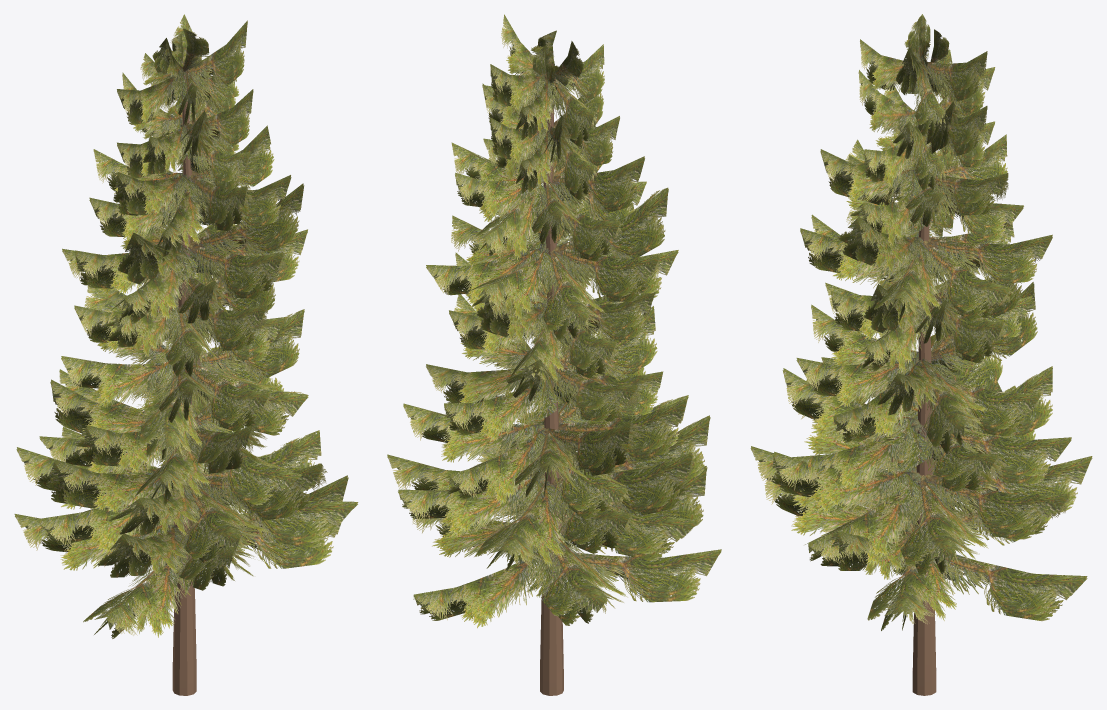
Rendered from Pine Tree v3 Test.fbx.
3 views of the same model, side by side, from view 1: azimuth 30°, elevation 25°; view 2: azimuth 150°, elevation 25°; view 3: azimuth 270°, elevation 25° (orthographic). The views are drawn at different scales.
Visible parts, largest first — view 1: pPlane131, polySurface186, polySurface194, pPlane126, polySurface205, polySurface131, polySurface273, polySurface288, polySurface279, polySurface195, polySurface228, polySurface267 (+26 smaller); view 2: pPlane131, polySurface186, polySurface194, pPlane126, polySurface205, polySurface187, polySurface131, polySurface195, polySurface303, polySurface312, polySurface294, polySurface276 (+21 smaller); view 3: pPlane131, polySurface186, polySurface194, pPlane126, polySurface205, polySurface131, polySurface187, polySurface285, polySurface264, polySurface207, polySurface198, polySurface202 (+27 smaller).
Boxes of the visible parts, <box> form: pPlane131: <box>14,395,358,638</box>; polySurface186: <box>39,369,302,511</box>; polySurface194: <box>62,183,307,323</box>; pPlane126: <box>74,269,285,376</box>; polySurface205: <box>117,72,253,178</box>; polySurface131: <box>172,75,196,695</box>; polySurface273: <box>61,356,174,403</box>; polySurface288: <box>193,309,304,377</box>; polySurface279: <box>139,372,202,451</box>; polySurface195: <box>89,197,179,240</box>; polySurface228: <box>117,74,187,124</box>; polySurface267: <box>193,363,308,431</box>; pPlane131: <box>387,407,721,628</box>; polySurface186: <box>403,363,688,519</box>; polySurface194: <box>426,155,678,340</box>; pPlane126: <box>449,239,655,389</box>; polySurface205: <box>482,83,619,200</box>; polySurface187: <box>444,386,559,441</box>; polySurface131: <box>540,98,563,695</box>; polySurface195: <box>556,208,623,261</box>; polySurface303: <box>475,181,547,254</box>; polySurface312: <box>552,156,644,208</box>; polySurface294: <box>455,172,546,216</box>; polySurface276: <box>560,306,657,378</box>; pPlane131: <box>750,379,1092,630</box>; polySurface186: <box>782,329,1071,491</box>; polySurface194: <box>800,139,1052,323</box>; pPlane126: <box>825,254,1032,372</box>; polySurface205: <box>858,70,994,190</box>; polySurface131: <box>912,71,936,695</box>; polySurface187: <box>932,377,1040,436</box>; polySurface285: <box>922,360,987,447</box>; polySurface264: <box>797,357,919,397</box>; polySurface207: <box>926,51,987,101</box>; polySurface198: <box>850,192,924,246</box>; polySurface202: <box>864,142,923,187</box>.
Size of the model in its own units: 7.51 by 15.99 by 7.36.
Materials: 2 (1 with a texture image).
